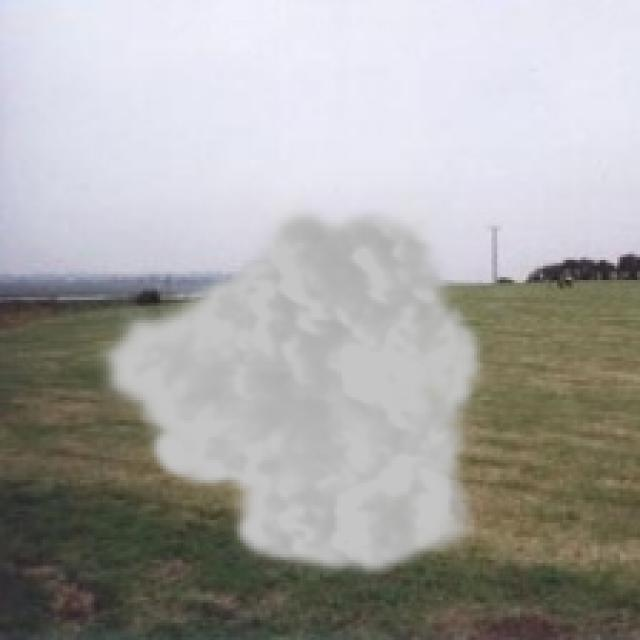Smoke: (91, 197, 488, 583)
